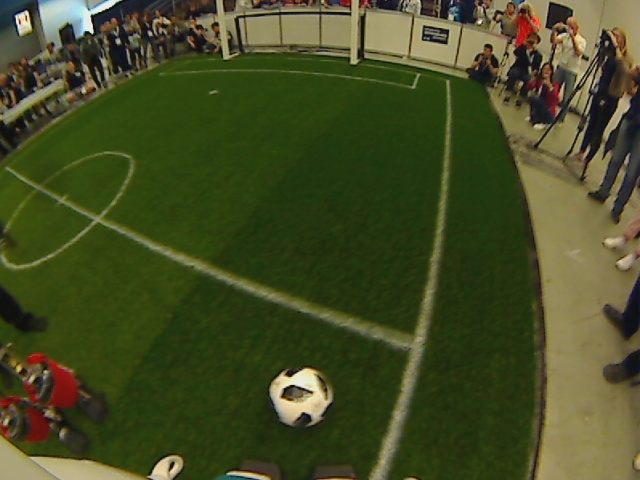ball: (267, 361, 334, 430)
